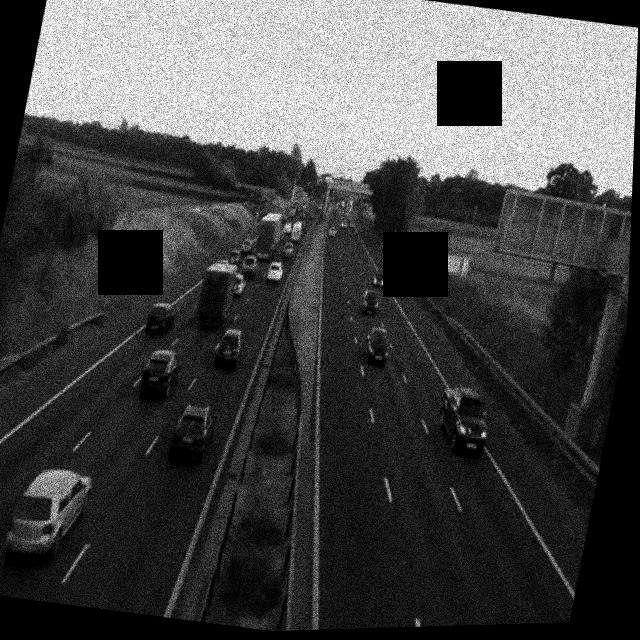car: (3, 463, 94, 568), (432, 381, 497, 458), (167, 399, 219, 465), (136, 345, 184, 401), (213, 325, 246, 370), (143, 299, 178, 338), (361, 324, 393, 366), (359, 286, 380, 316), (231, 275, 248, 300), (370, 266, 387, 289), (241, 253, 258, 275), (280, 240, 295, 258), (239, 238, 253, 257), (327, 224, 338, 237)
truck: (193, 256, 242, 329), (253, 210, 283, 261), (289, 219, 304, 240)
